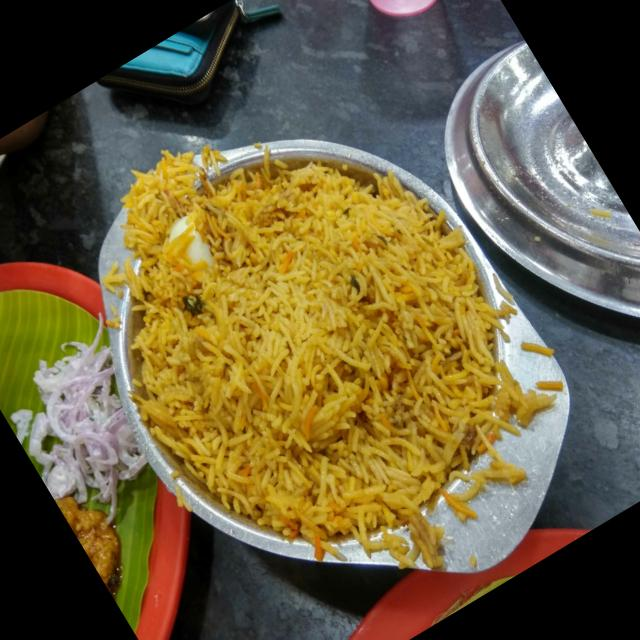Biryani: (23, 27, 614, 640)
